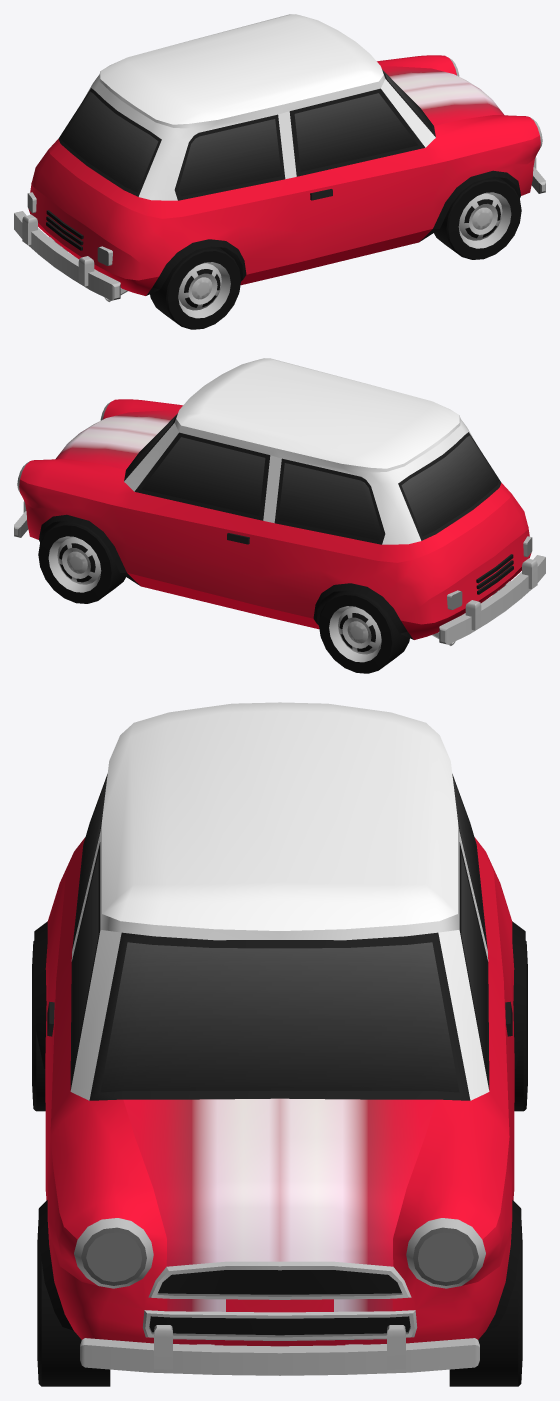
File: car.glb
3 views of the same model, one above another, from view 1: azimuth 30°, elevation 25°; view 2: azimuth 150°, elevation 25°; view 3: azimuth 270°, elevation 25° (orthographic). The views are drawn at different scales.
Visible parts, largest first — view 1: SkeletalMeshComponent0; view 2: SkeletalMeshComponent0; view 3: SkeletalMeshComponent0.
Boxes of the visible parts, bbox=[...] form: SkeletalMeshComponent0: bbox=[14, 14, 545, 329]; SkeletalMeshComponent0: bbox=[14, 358, 545, 673]; SkeletalMeshComponent0: bbox=[32, 702, 527, 1386].
Size of the model in its own units: 0.2137 by 0.0911 by 0.1015.
2 materials, 1 textured.
